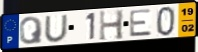0: (156, 5, 177, 37)
1: (85, 11, 98, 42)
E: (129, 8, 154, 38)
H: (98, 9, 125, 42)
Q: (18, 16, 44, 46)
U: (43, 13, 69, 43)
